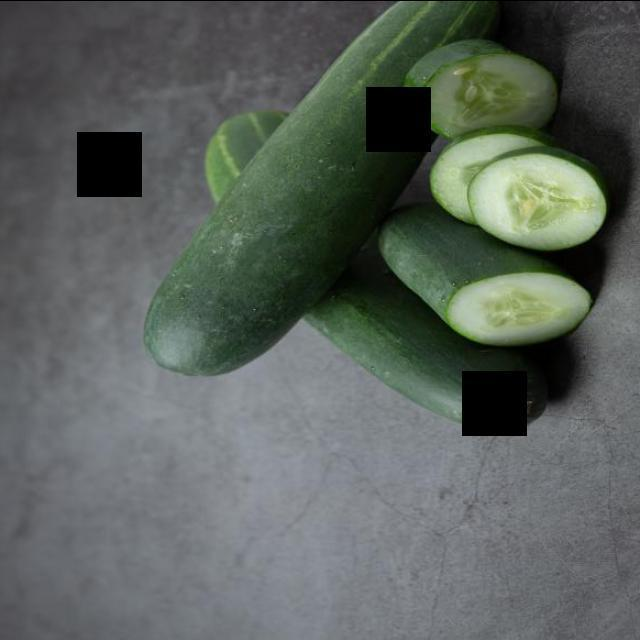cucumber: (136, 0, 502, 384), (196, 103, 544, 445)
